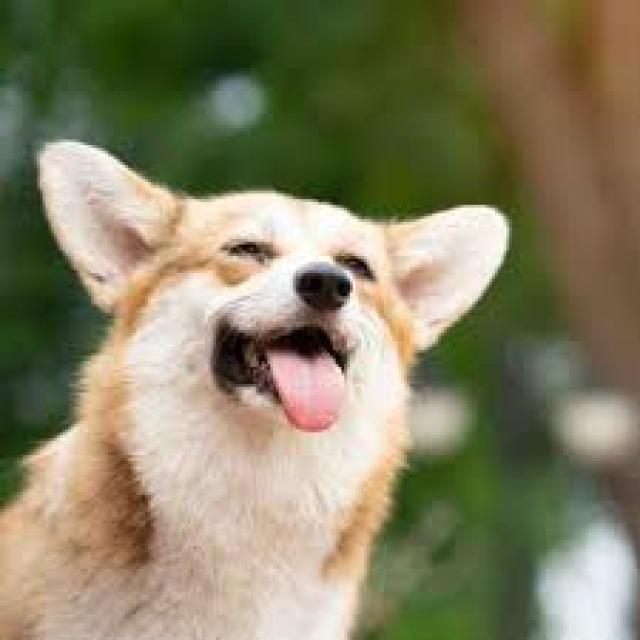CORGI: (0, 135, 524, 639)
